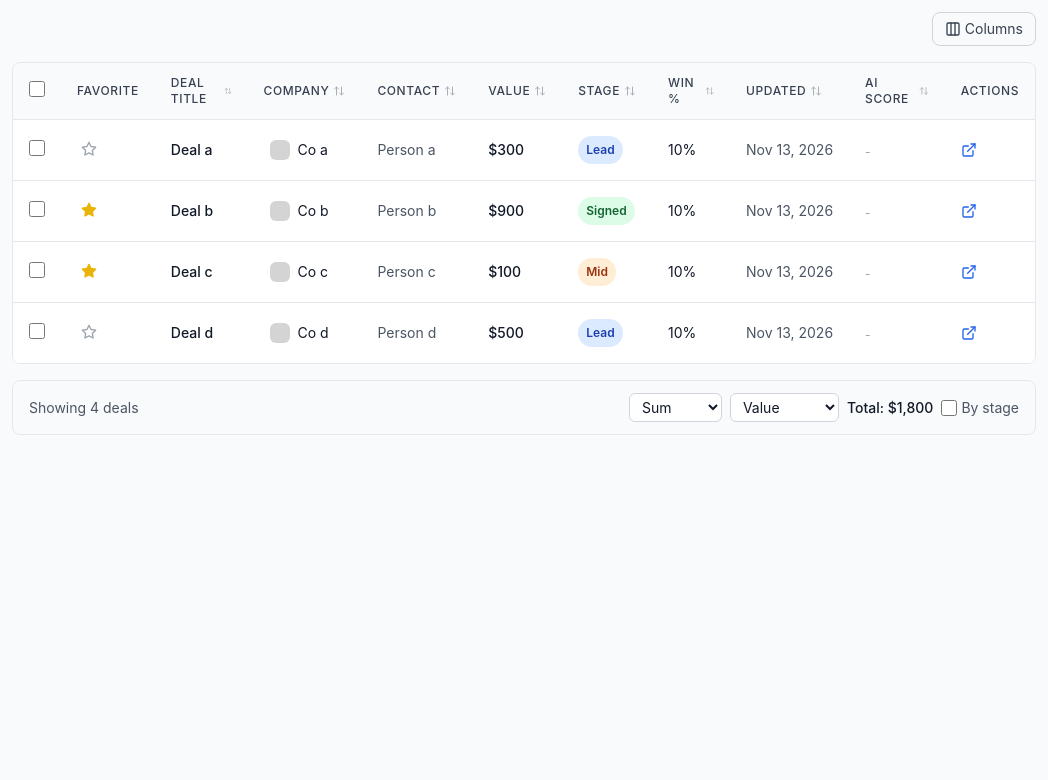
Test: table view › footer aggregates (count / sum / avg) follow the selected operation and the selection
Later steps or results of the test are not shown.
Expected: the text with test id "table-aggregate" reads "Total: $1,800", [847, 398, 933, 418]
Select "Average" in the dropdown named "Aggregate operation" at x=675, y=408, box [629, 393, 722, 422]
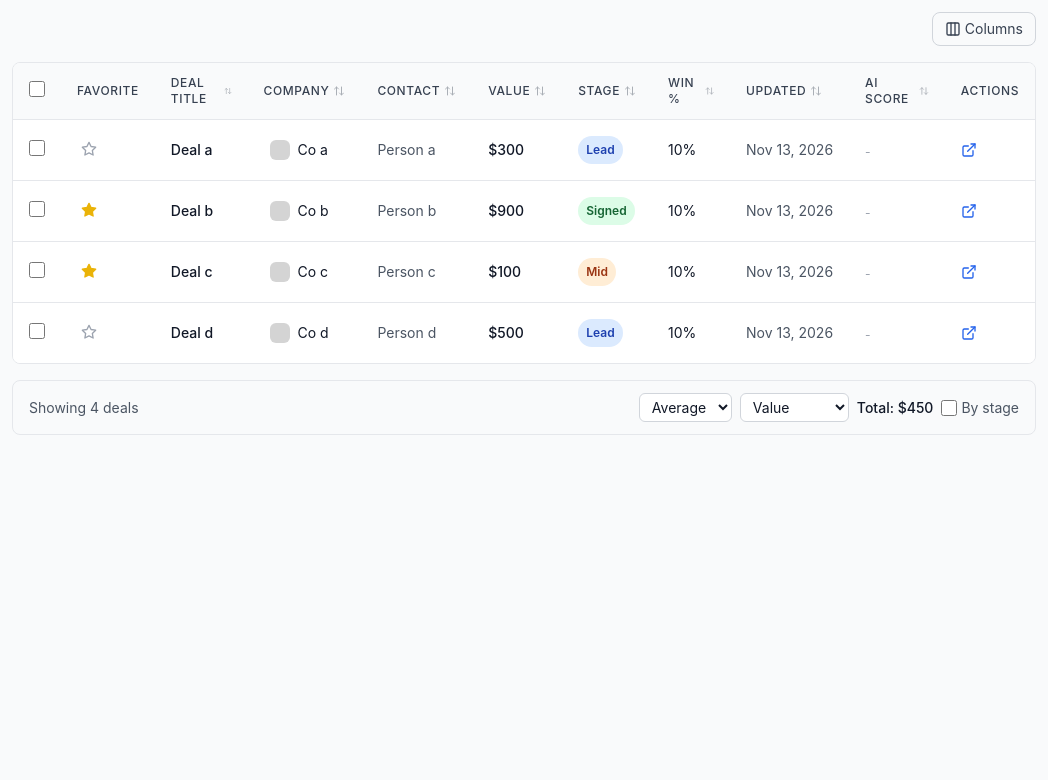
Result: the text with test id "table-aggregate" reads "Total: $450" at [857, 398, 933, 418]
Select "Count" in the dropdown named "Aggregate operation" at x=685, y=408, box [639, 393, 732, 422]
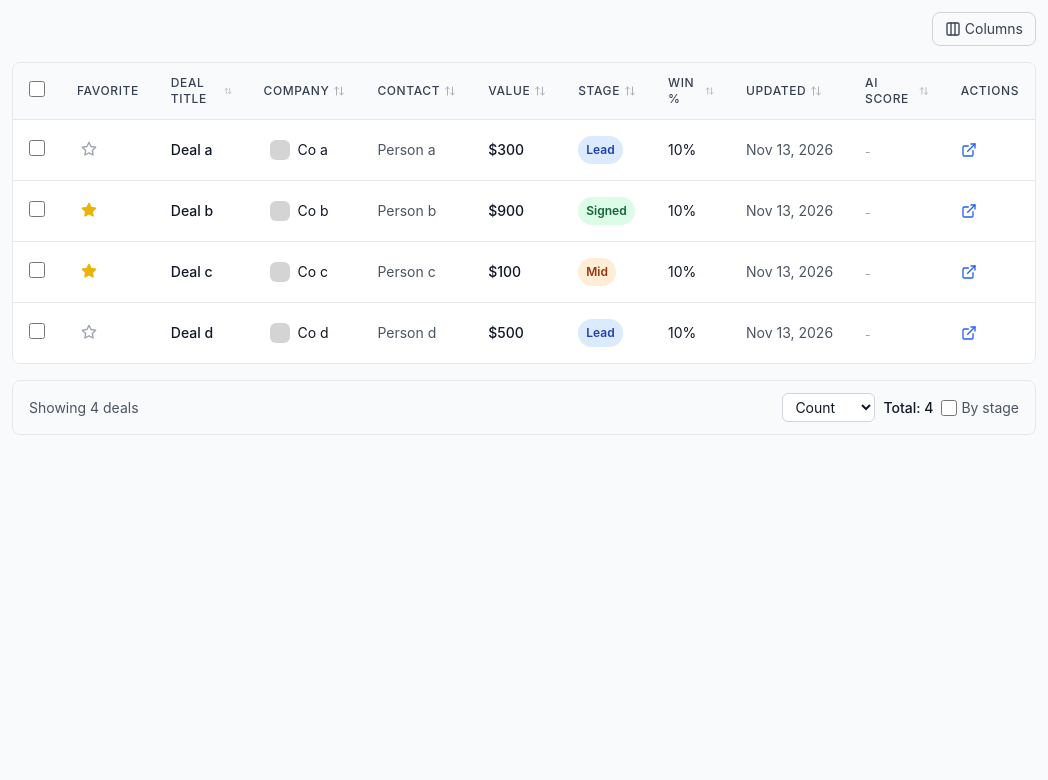
Result: the text with test id "table-aggregate" reads "Total: 4" at [883, 398, 933, 418]
Select "Sum" in the dropdown named "Aggregate operation" at x=829, y=408, box [782, 393, 875, 422]
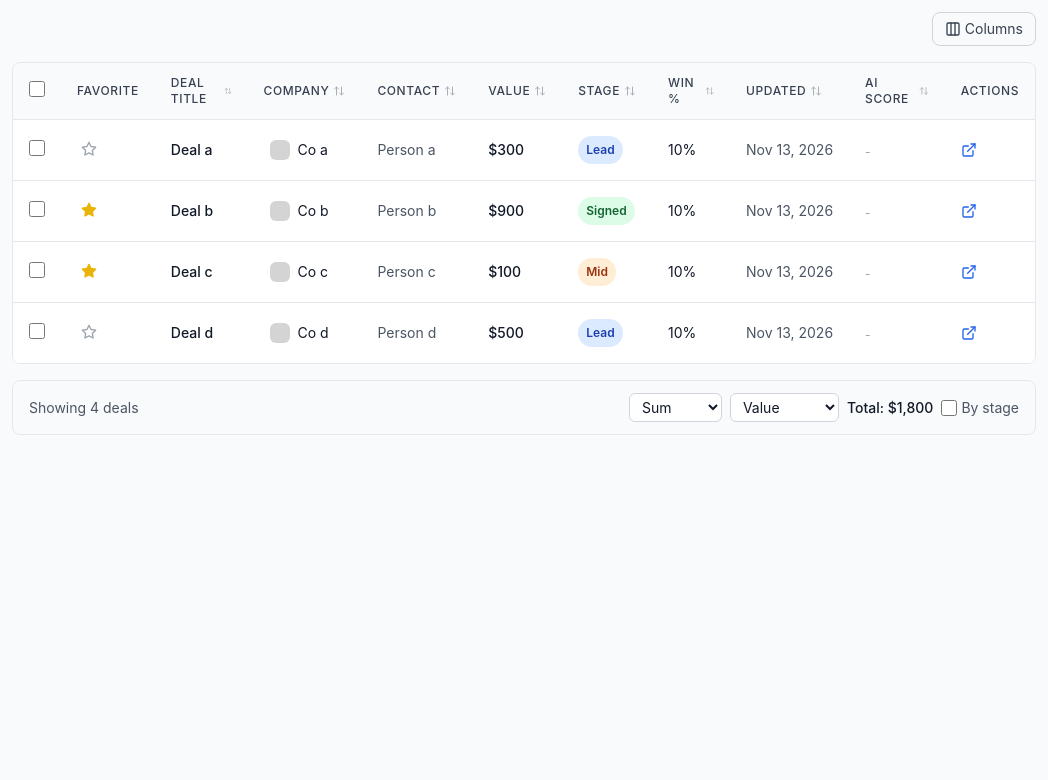
Click the checkbox named "Select Deal b" at x=37, y=209, box [29, 201, 45, 217]
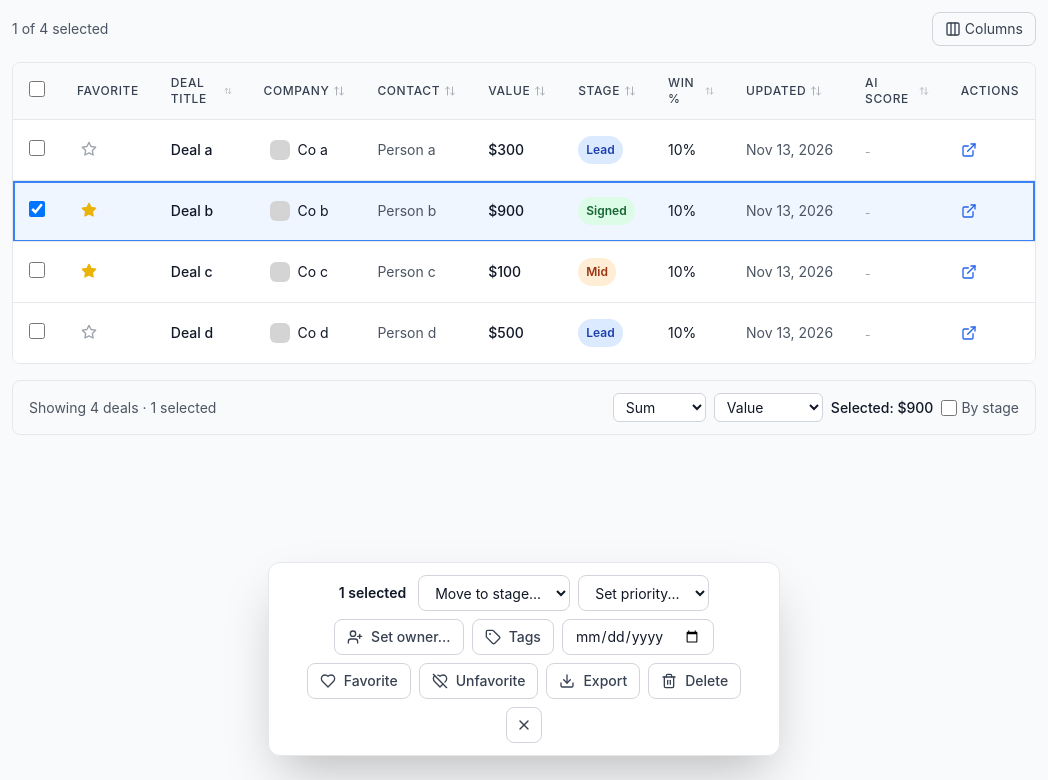
Result: the text with test id "table-aggregate" reads "Selected: $900" at [831, 398, 933, 418]
